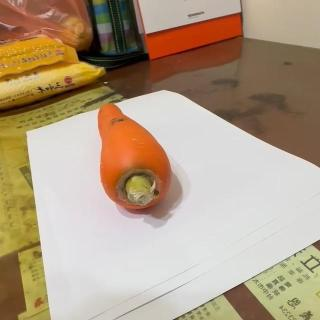carrot: (96, 102, 174, 214)
